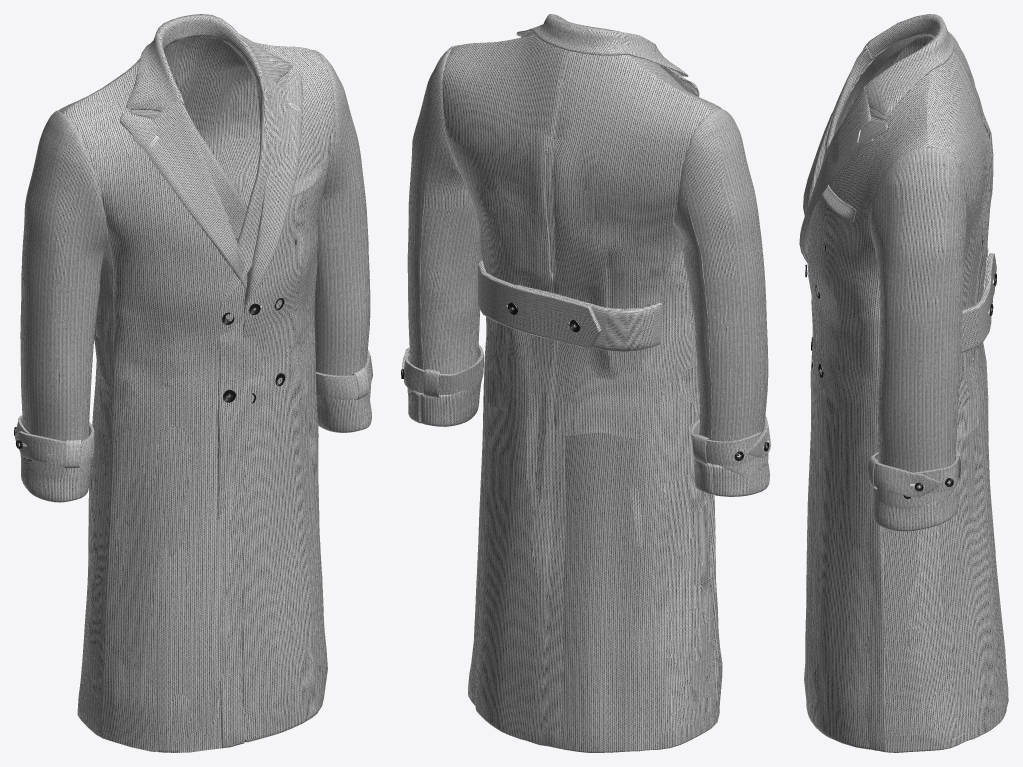
Rendered from polo_coat.glb.
3 views of the same model, side by side, from view 1: azimuth 30°, elevation 25°; view 2: azimuth 150°, elevation 25°; view 3: azimuth 270°, elevation 25° (orthographic). The views are drawn at different scales.
Visible parts, largest first — view 1: 2Button_Lightly_padded, 6Button_Lightly_Padded, Lightly_Padded, peak, full, CL2_3_4Button, 6button_Structured_Inverted_box_pleat, Structured, 6Button_Structured, notch, cuffed, Full_Sleeve_Strap_with_buttons (+4 smaller); view 2: 6button_Structured_Inverted_box_pleat, 2button_vent_lightly_padded_novent, Lightly_Padded, Martingale_Belt, Structured, cuffed, Full_Sleeve_Strap_with_buttons, notch, 2button_vent_lightly_padded, 6Button_Lightly_Padded, peak, CL2_3_4Button; view 3: 2Button_Lightly_padded, 6button_Structured_Inverted_box_pleat, Lightly_Padded, 2button_vent_lightly_padded_novent, 6Button_Lightly_Padded, Structured, peak, notch, CL2_3_4Button, Full_Sleeve_Strap_with_buttons, cuffed, 6Button_Structured (+7 smaller).
Part boxes in pixels (x1,y1,x2,y2): 2Button_Lightly_padded: [101, 60, 335, 752]; 6Button_Lightly_Padded: [100, 42, 319, 752]; Lightly_Padded: [20, 119, 370, 441]; peak: [119, 17, 303, 306]; full: [164, 37, 260, 207]; CL2_3_4Button: [126, 23, 292, 307]; 6button_Structured_Inverted_box_pleat: [58, 58, 140, 736]; Structured: [31, 50, 352, 195]; 6Button_Structured: [64, 45, 333, 191]; notch: [134, 14, 286, 305]; cuffed: [21, 395, 371, 502]; Full_Sleeve_Strap_with_buttons: [14, 350, 372, 468]; 6button_Structured_Inverted_box_pleat: [442, 34, 715, 752]; 2button_vent_lightly_padded_novent: [444, 51, 715, 749]; Lightly_Padded: [407, 115, 768, 441]; Martingale_Belt: [478, 259, 661, 351]; Structured: [419, 45, 749, 195]; cuffed: [408, 378, 769, 496]; Full_Sleeve_Strap_with_buttons: [402, 344, 770, 465]; notch: [520, 14, 695, 93]; 2button_vent_lightly_padded: [511, 39, 716, 723]; 6Button_Lightly_Padded: [510, 37, 722, 722]; peak: [521, 15, 699, 96]; CL2_3_4Button: [516, 19, 697, 95]; 2Button_Lightly_padded: [804, 40, 930, 751]; 6button_Structured_Inverted_box_pleat: [882, 32, 1007, 745]; Lightly_Padded: [869, 206, 966, 472]; 2button_vent_lightly_padded_novent: [886, 47, 1008, 752]; 6Button_Lightly_Padded: [810, 42, 928, 750]; Structured: [870, 31, 966, 223]; peak: [799, 16, 953, 262]; notch: [802, 14, 953, 257]; CL2_3_4Button: [811, 22, 951, 218]; Full_Sleeve_Strap_with_buttons: [868, 449, 961, 497]; cuffed: [873, 481, 959, 531]; 6Button_Structured: [877, 101, 927, 174].
Size of the model in its own units: 3.54 by 6.51 by 1.82.
5 materials, 2 textured.
